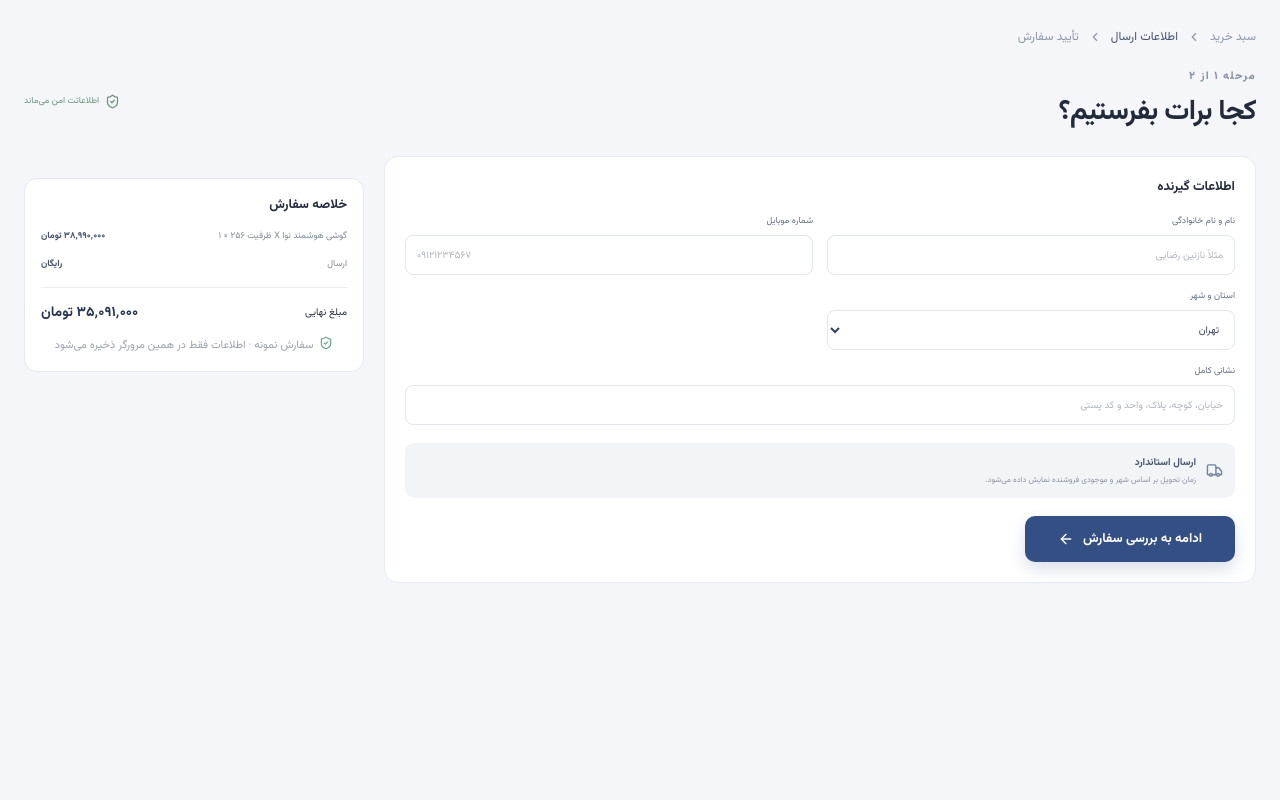
it: checkout flow › validates delivery details, confirms a demo order and persists it
Type "نازنین رضایی" into the field labelled "نام و نام خانوادگی" at (1031, 255), box [827,235,1235,275]
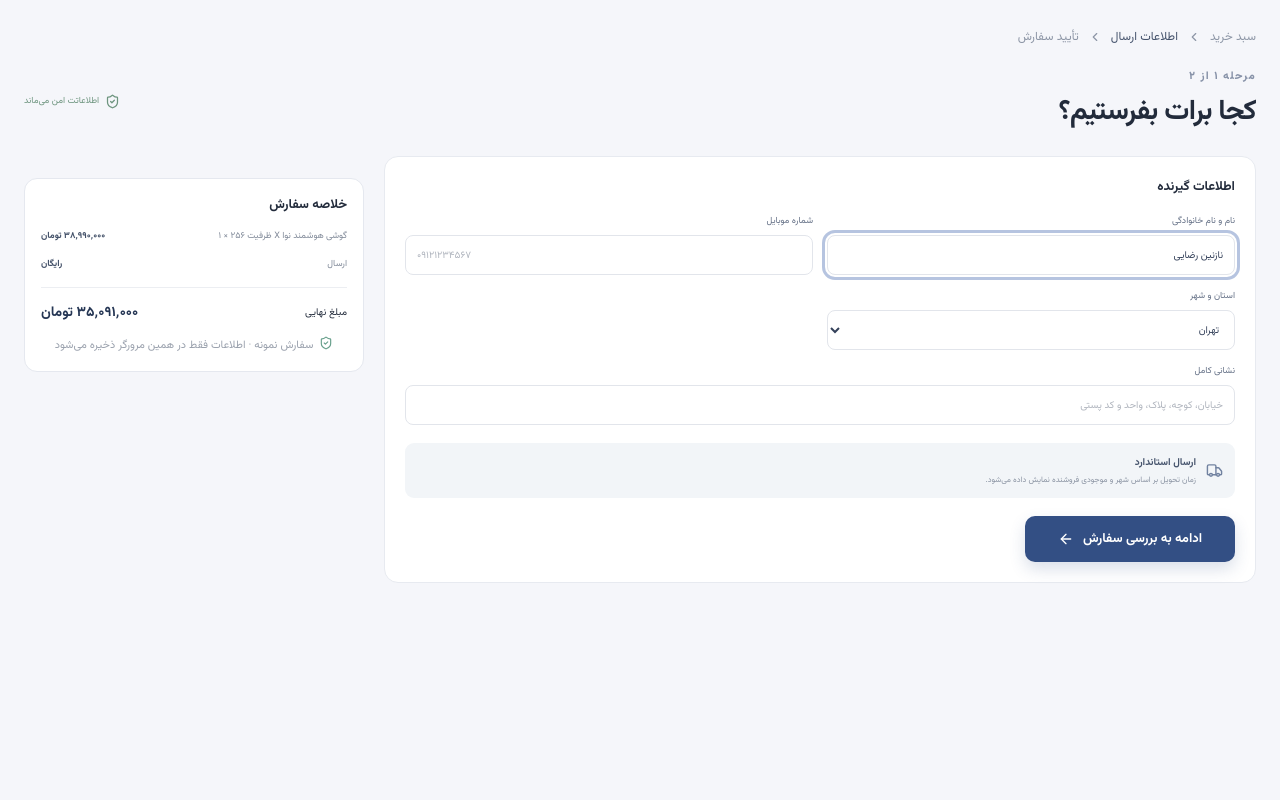
Type "09123456789" into the field labelled "شماره موبایل" at (609, 255), box [405,235,813,275]
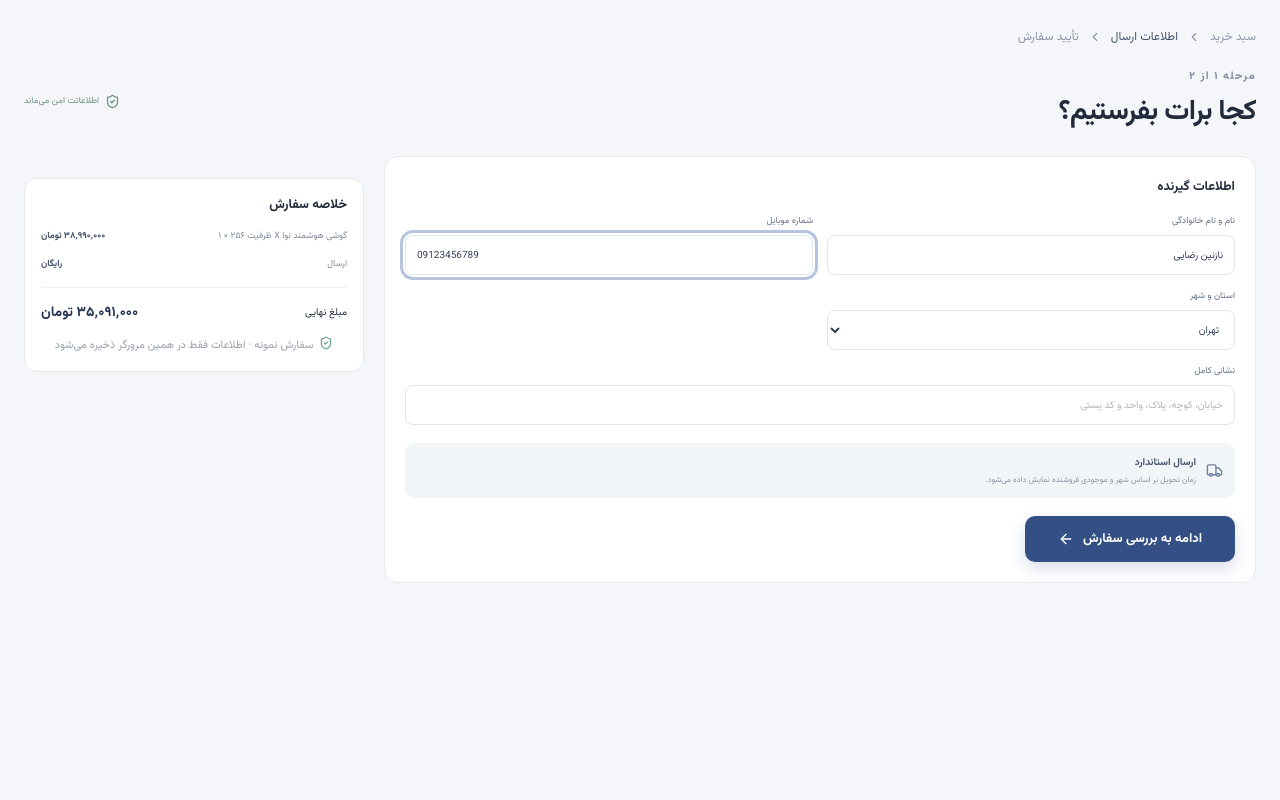
Type "تهران، خیابان ولیعصر، پلاک ۱۰، واحد ۲" into the field labelled "نشانی کامل" at (820, 405), box [405,385,1235,425]
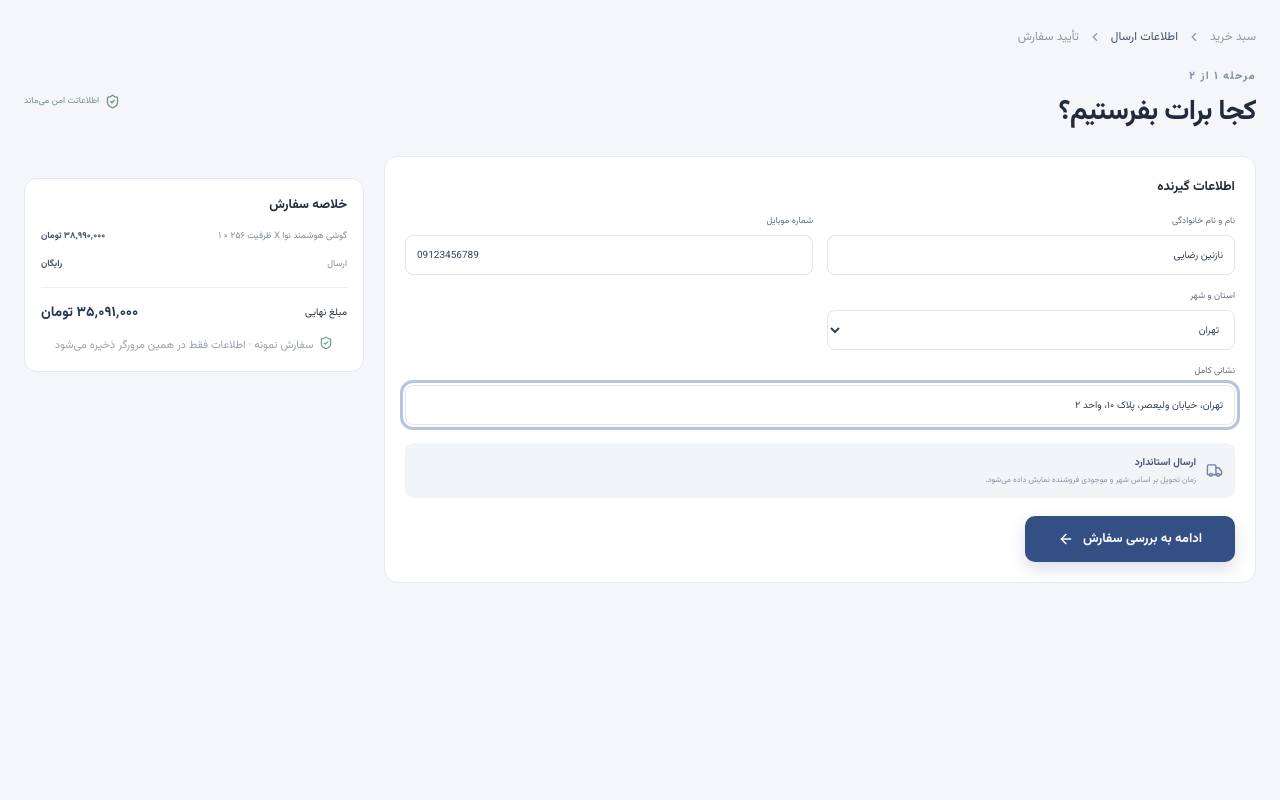
Click the button "ادامه به بررسی سفارش" at (1130, 539), box [1025,516,1235,562]
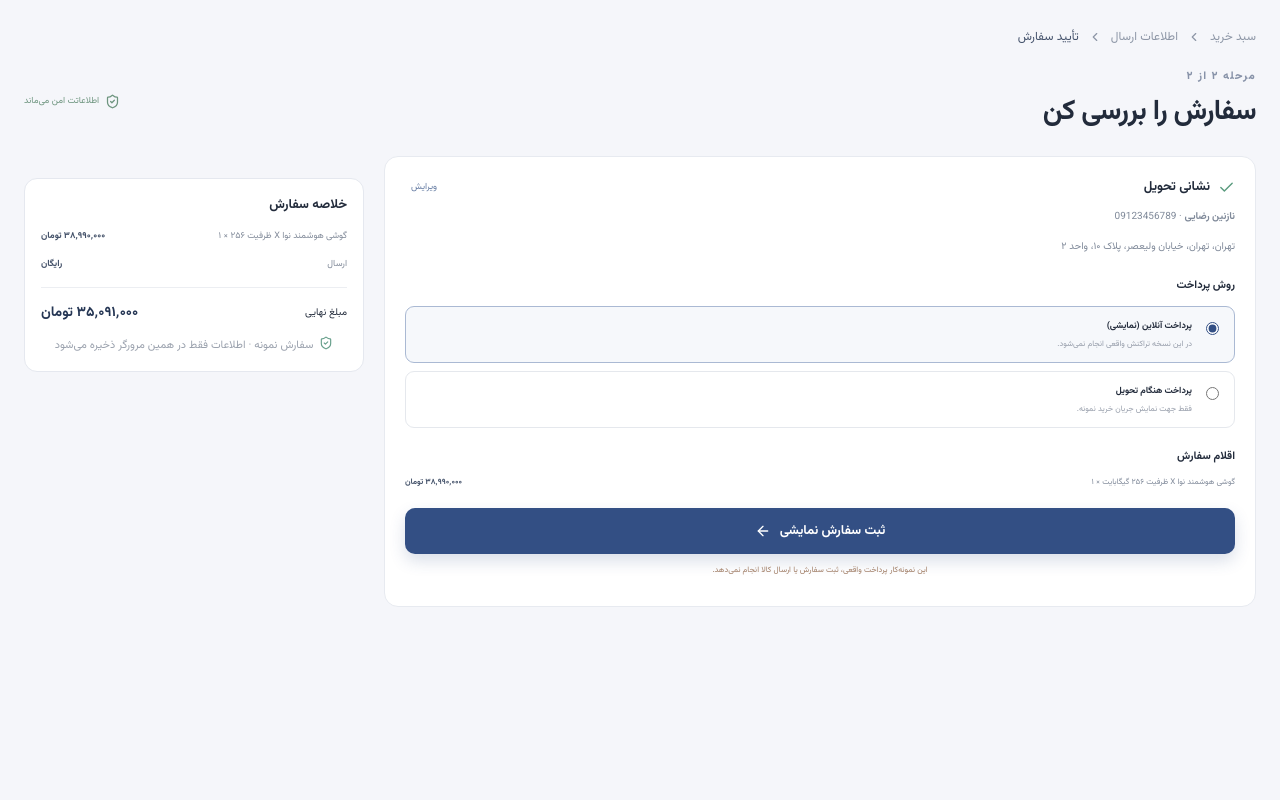
Check: the text "پرداخت آنلاین (نمایشی)" is shown, box [1107,319,1192,333]
Click the button "ثبت سفارش نمایشی" at (820, 531), box [405,508,1235,554]
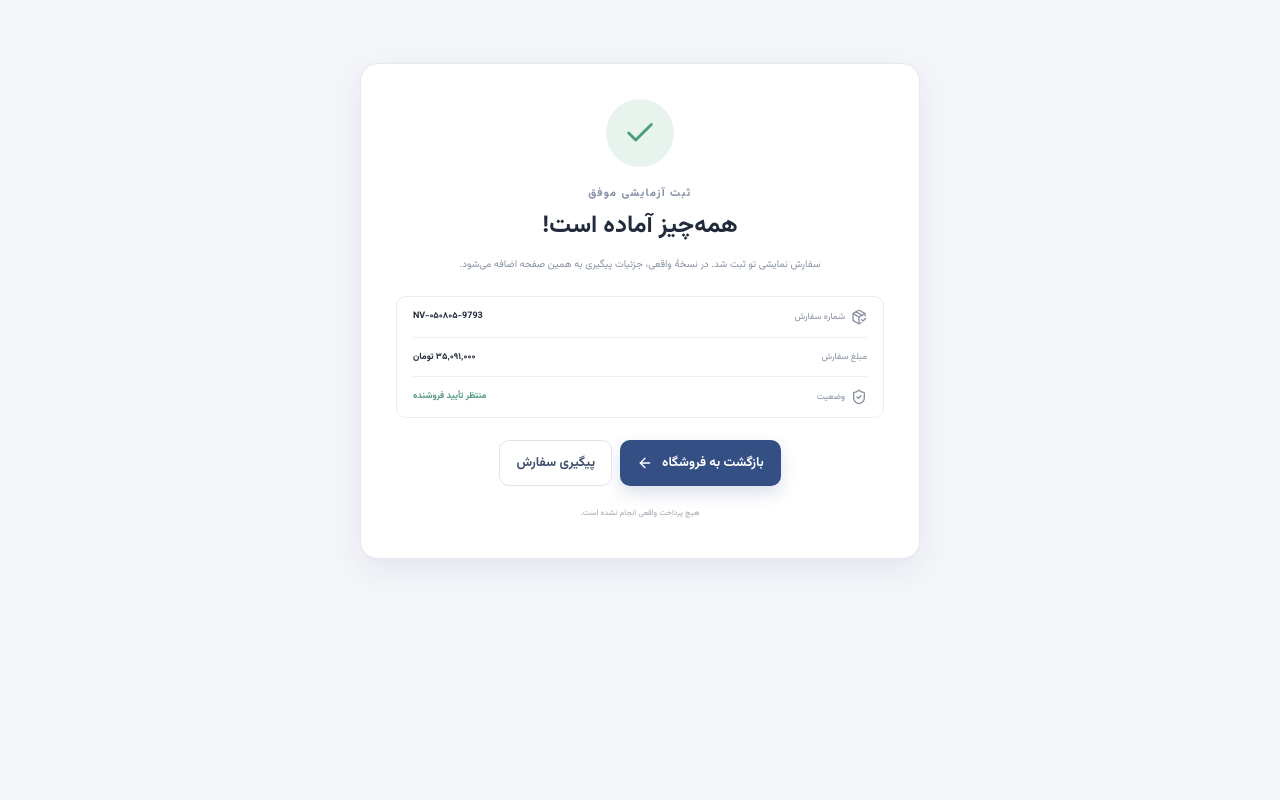
Check: the text "ثبت آزمایشی موفق" is shown, box [588,185,692,202]
